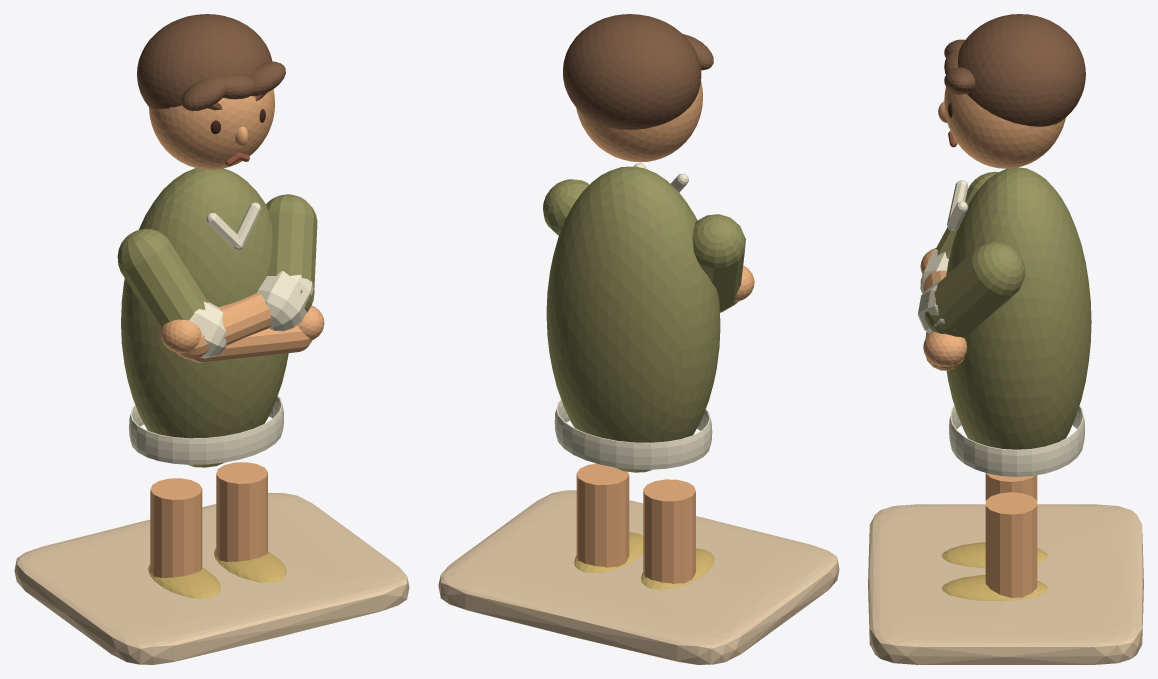
The model's file is arg_villager_b.glb.
The picture shows the model from 3 angles, left to right: view 1: azimuth 30°, elevation 25°; view 2: azimuth 150°, elevation 25°; view 3: azimuth 270°, elevation 25°; orthographic projection.
Parts seen in each view (by area): view 1: Base, Tunic, Hair, Head, Sleeve_R, Leg_R, Leg_L, Hem, Sleeve_L, Cuff_L, Fore_L, Fore_R (+8 smaller); view 2: Tunic, Base, Hair, Leg_R, Leg_L, Hem, Head, Sleeve_R, Sleeve_L, Sandal_R, Sandal_L; view 3: Base, Tunic, Hair, Sleeve_L, Leg_L, Head, Hem, Sandal_L, Hand_R, Leg_R, Sandal_R, Sleeve_R (+3 smaller).
Part boxes in pixels (x1=…): Base: x1=14, y1=493, x2=409, y2=664; Tunic: x1=121, y1=168, x2=288, y2=467; Hair: x1=137, y1=14, x2=272, y2=109; Head: x1=149, y1=89, x2=274, y2=169; Sleeve_R: x1=117, y1=229, x2=208, y2=334; Leg_R: x1=150, y1=478, x2=202, y2=577; Leg_L: x1=216, y1=462, x2=267, y2=561; Hem: x1=129, y1=395, x2=283, y2=464; Sleeve_L: x1=266, y1=194, x2=317, y2=312; Cuff_L: x1=257, y1=271, x2=314, y2=331; Fore_L: x1=177, y1=293, x2=271, y2=359; Fore_R: x1=190, y1=325, x2=312, y2=362; Tunic: x1=546, y1=166, x2=720, y2=472; Base: x1=438, y1=490, x2=839, y2=664; Hair: x1=563, y1=14, x2=701, y2=129; Leg_R: x1=643, y1=479, x2=695, y2=583; Leg_L: x1=576, y1=463, x2=629, y2=567; Hem: x1=554, y1=399, x2=712, y2=469; Head: x1=576, y1=81, x2=702, y2=162; Sleeve_R: x1=692, y1=214, x2=745, y2=312; Sleeve_L: x1=543, y1=179, x2=589, y2=235; Sandal_R: x1=641, y1=548, x2=714, y2=589; Sandal_L: x1=574, y1=532, x2=643, y2=573; Base: x1=868, y1=504, x2=1143, y2=664; Tunic: x1=946, y1=167, x2=1091, y2=449; Hair: x1=958, y1=14, x2=1085, y2=126; Sleeve_L: x1=924, y1=242, x2=1025, y2=337; Leg_L: x1=985, y1=492, x2=1037, y2=598; Head: x1=944, y1=87, x2=1065, y2=168; Hem: x1=949, y1=405, x2=1084, y2=476; Sandal_L: x1=941, y1=575, x2=1047, y2=600; Hand_R: x1=923, y1=331, x2=967, y2=366; Leg_R: x1=985, y1=473, x2=1037, y2=500; Sandal_R: x1=941, y1=542, x2=1047, y2=568; Sleeve_R: x1=936, y1=171, x2=998, y2=258.
Size of the model in its own units: 0.9165 by 1.7 by 0.7391.
